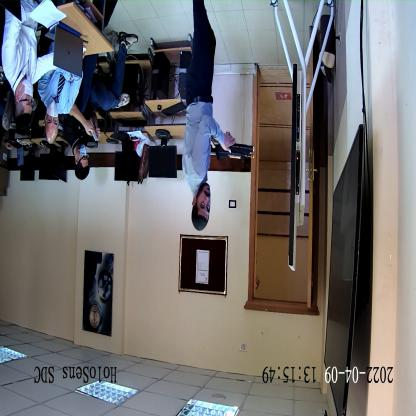handgun: (205, 141, 251, 162)
